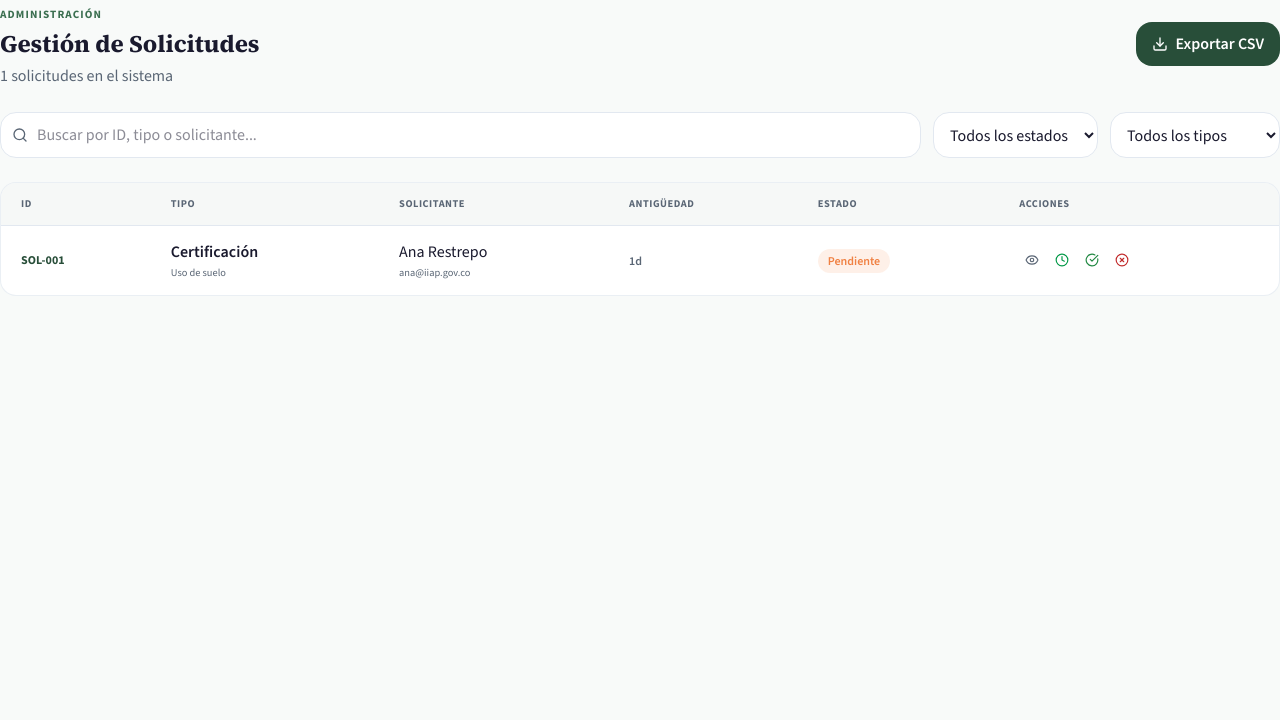
GestionSolicitudes — drawer de detalle › cerrar el drawer con la X lo oculta
The width and height of the screenshot is (1280, 720).
Click the button titled "Ver detalle": (1032, 260) [1019,247,1045,273]
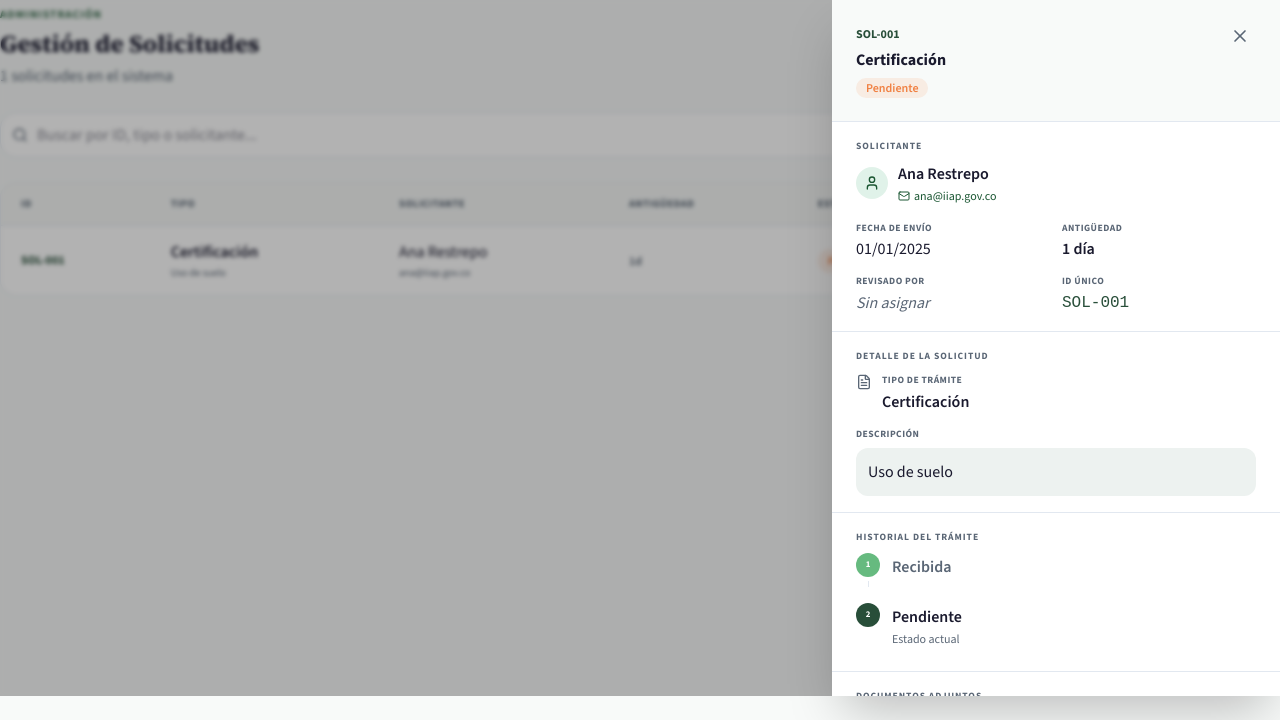
Expected: the text "Historial del trámite" is shown, [856,530,979,543]
Click the button: (1240, 36) [1224,20,1256,52]
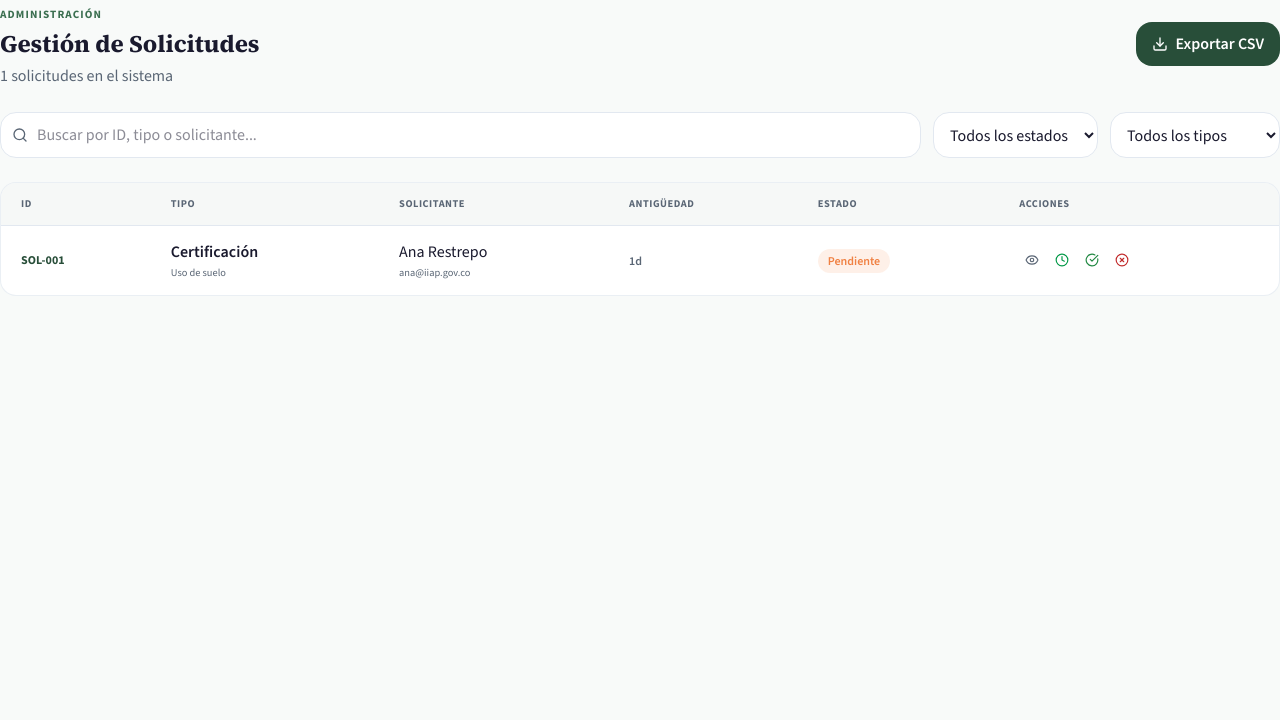
Expected: the text "Historial del trámite" is gone
